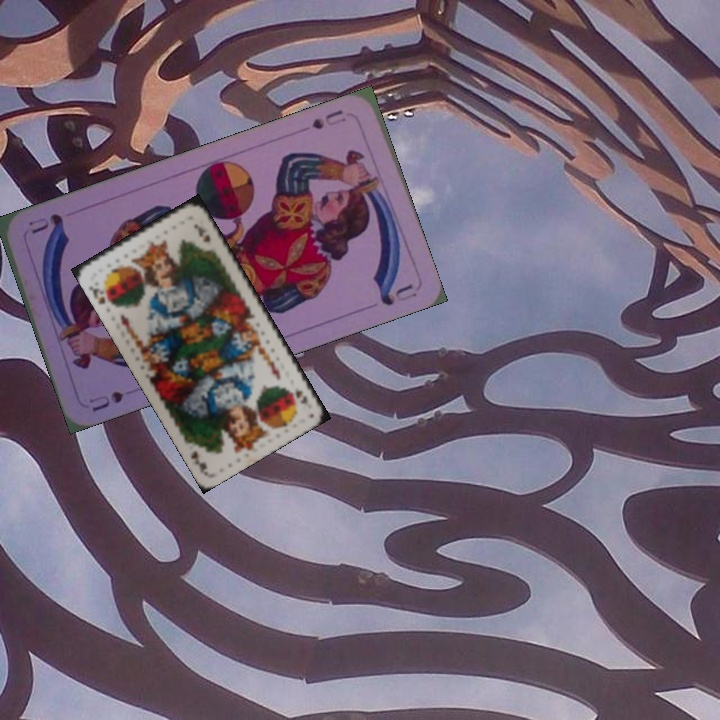SK: (85, 281, 118, 308), (291, 384, 310, 407)
SU: (84, 387, 126, 415), (308, 105, 349, 132)
